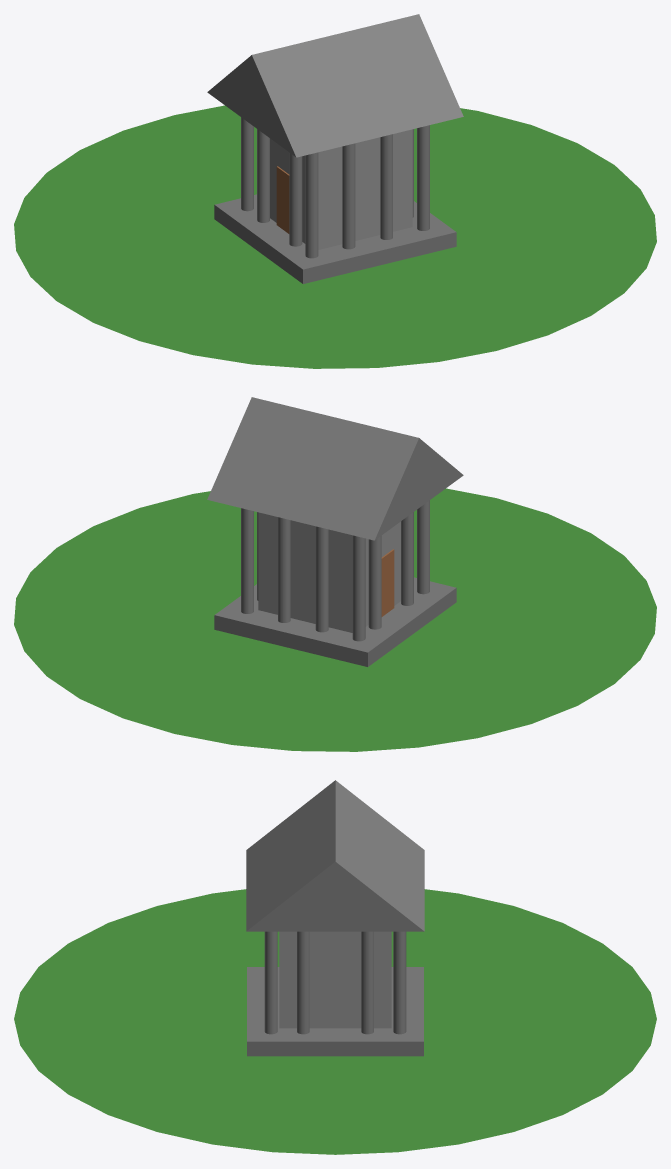
Rendered from bank.fbx.
3 views of the same model, one above another, from view 1: azimuth 30°, elevation 25°; view 2: azimuth 150°, elevation 25°; view 3: azimuth 270°, elevation 25° (orthographic).
Parts seen in each view (by area): view 1: base.005; view 2: base.005; view 3: base.005.
Boxes of the visible parts, x1=… form: base.005: x1=14, y1=14, x2=656, y2=368; base.005: x1=14, y1=397, x2=656, y2=751; base.005: x1=14, y1=780, x2=656, y2=1154.
Size of the model in its own units: 1000 by 340 by 1000.
